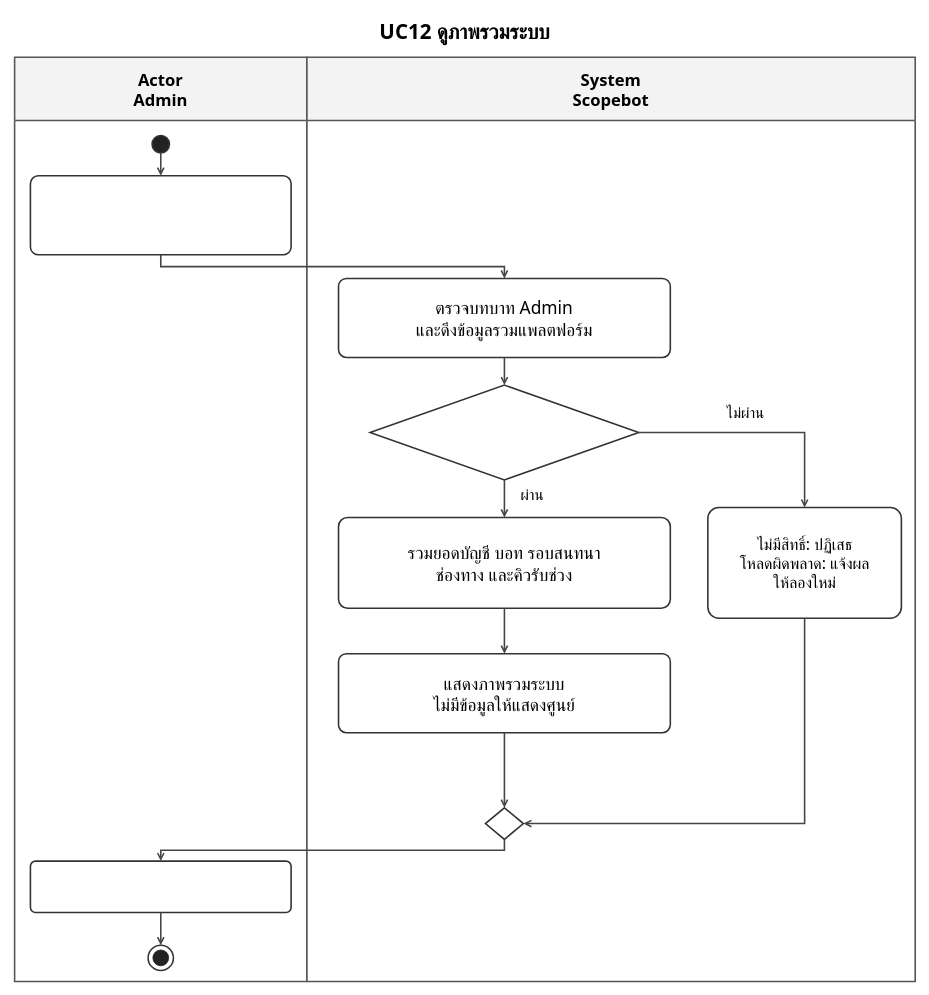
This 929x995 diagram has some shape labels left out. The shapes that lost their labels are listed below. From the top down, each one's centre as x and y in pixels, then its label:
At (x=160, y=215): "เปิดเมนูภาพรวมระบบ".
At (x=504, y=432): "มีสิทธิ์และโหลดสำเร็จ".
At (x=160, y=886): "ตรวจสอบผลการดำเนินการ".
